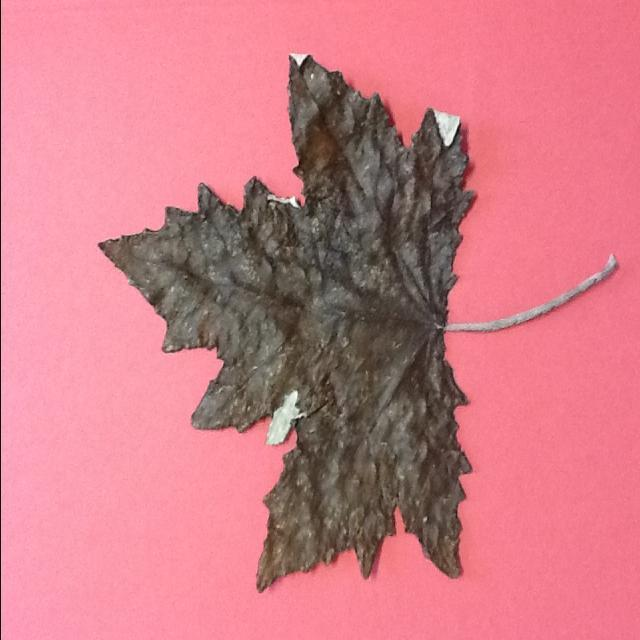foliage: (95, 54, 618, 592)
